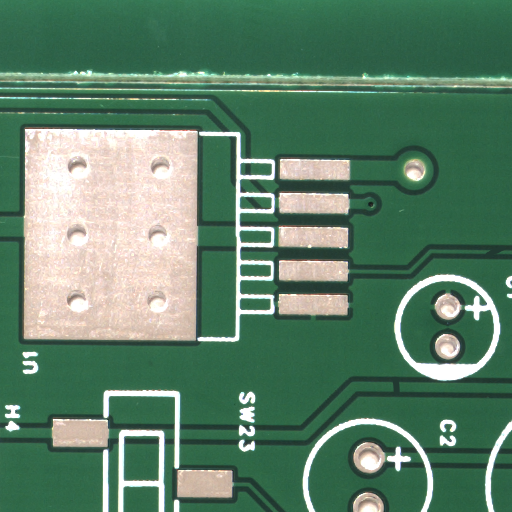Open_circuit: (495, 249, 512, 258), (396, 387, 403, 397)
